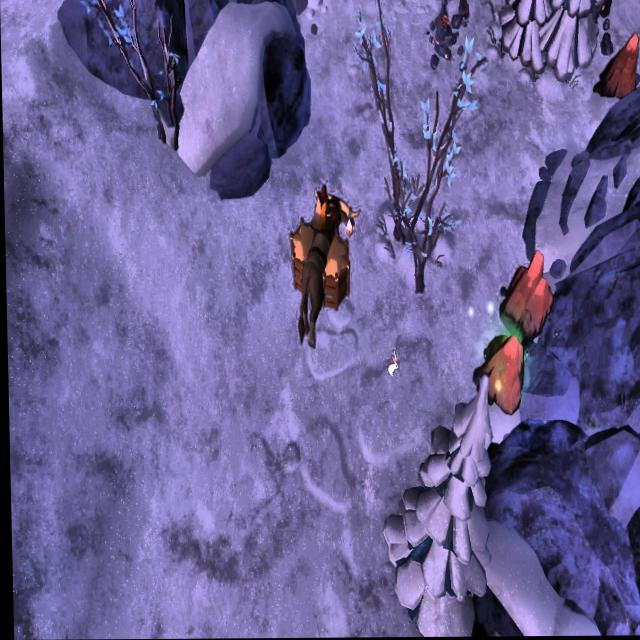rock_t5: (496, 250, 552, 338), (471, 337, 521, 420), (591, 30, 640, 107)
